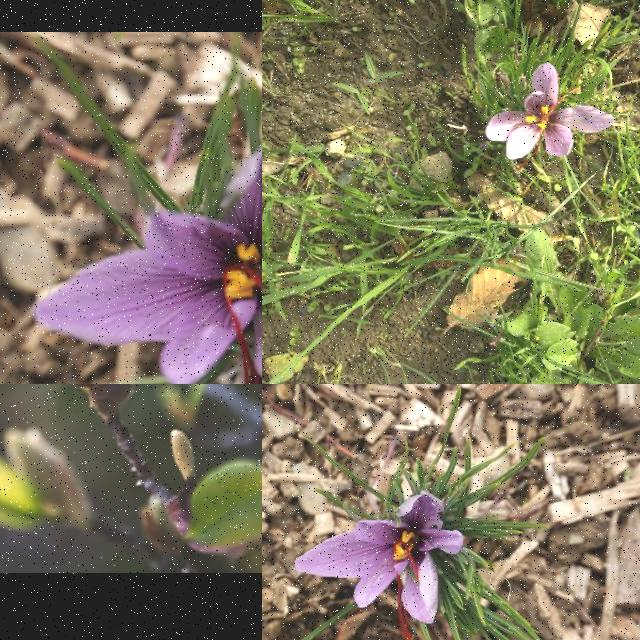flower: (31, 132, 262, 384), (294, 490, 465, 640), (484, 61, 616, 170)
